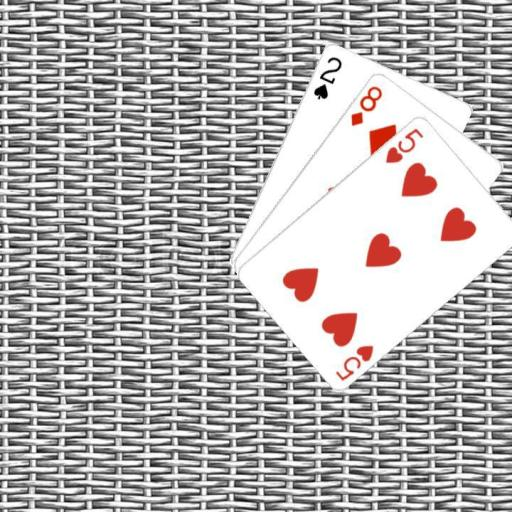2S: (310, 53, 344, 101)
5H: (332, 341, 376, 382), (382, 124, 425, 165)
8D: (347, 82, 384, 128)
